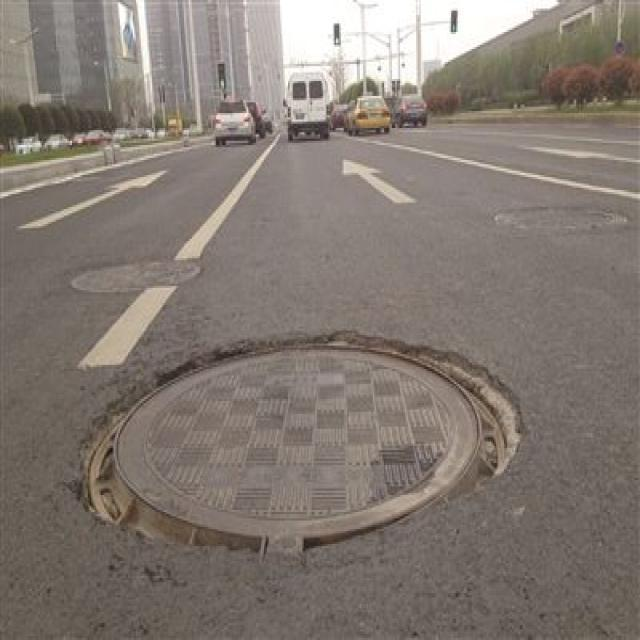manhole: (86, 335, 520, 550), (71, 261, 201, 292)
